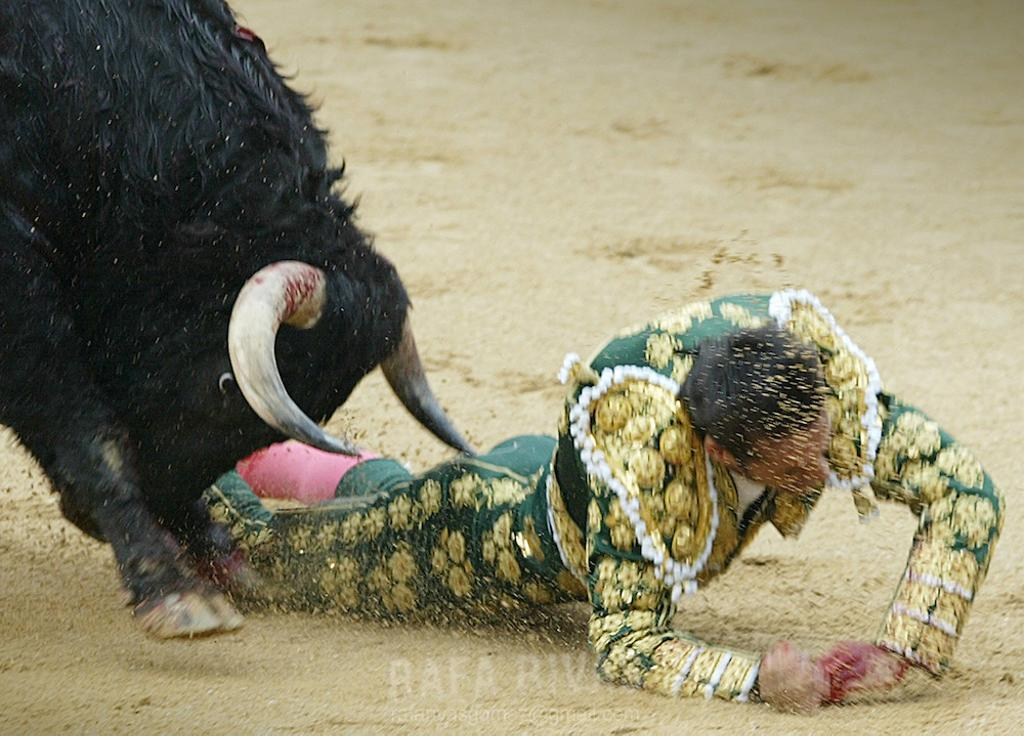face: (761, 415, 841, 499)
